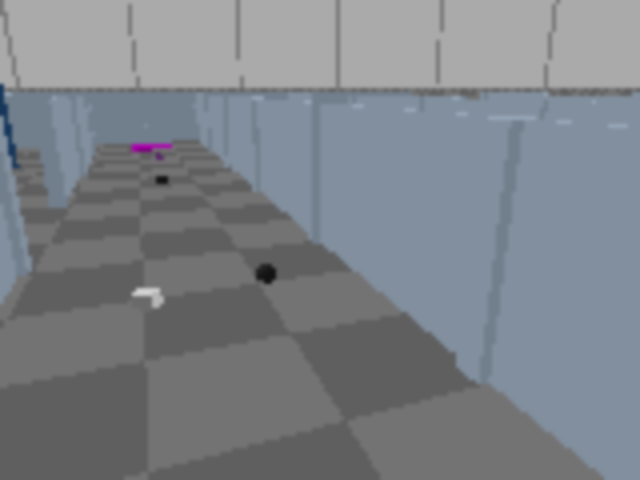goal_zone: (132, 144, 175, 151)
person: (0, 0, 18, 175)
puck: (131, 286, 163, 311), (255, 260, 278, 287)
